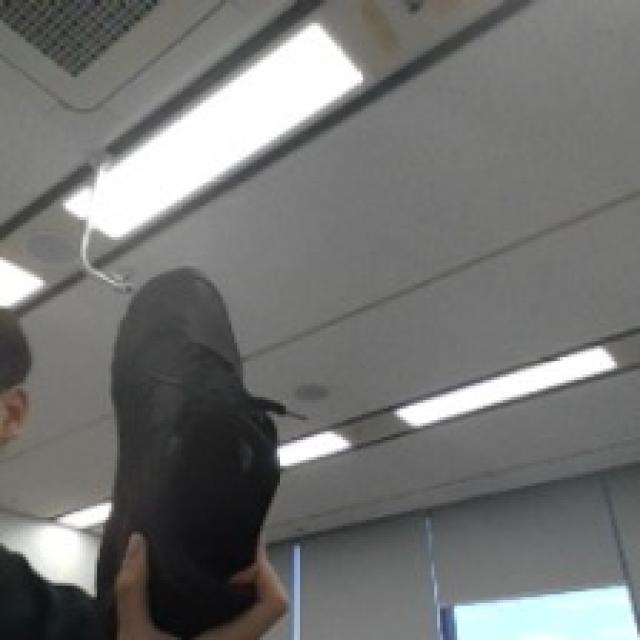shoe: (96, 266, 283, 637)
